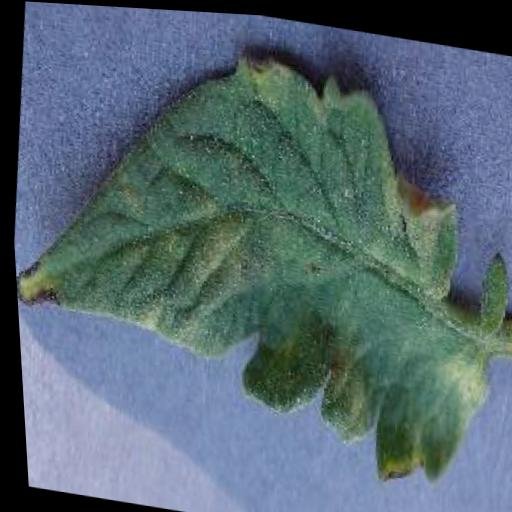Leaf Mold: (0, 10, 512, 489)
